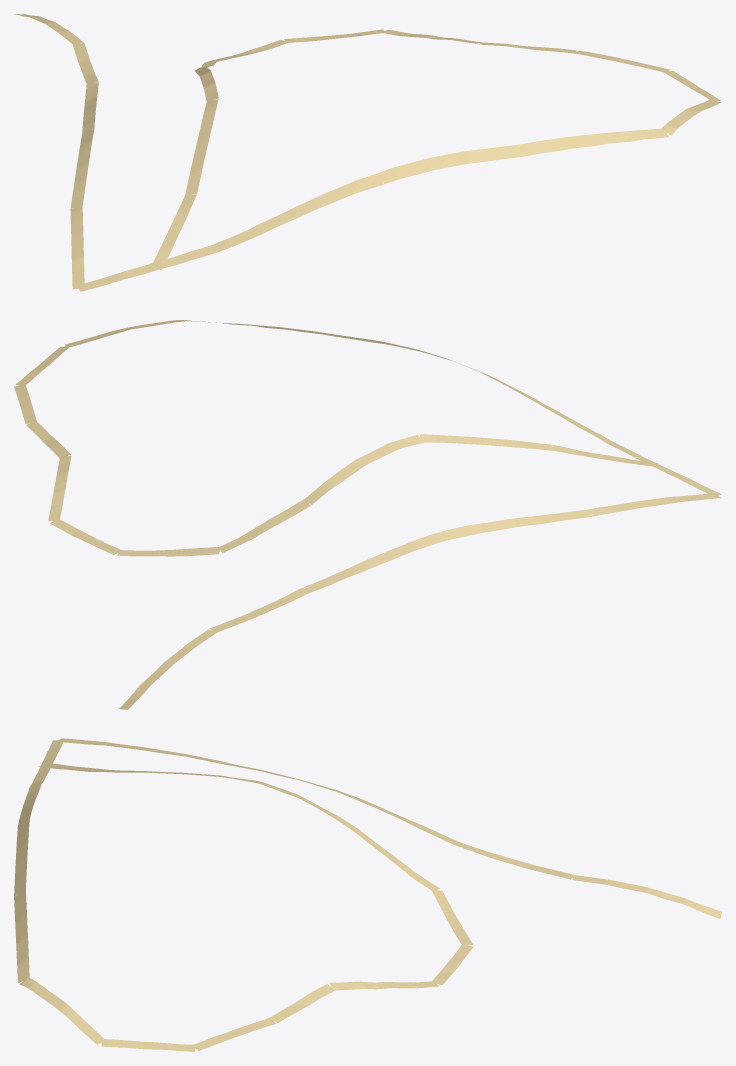
Rendered from Trail_16.glb.
3 views of the same model, one above another, from view 1: azimuth 30°, elevation 25°; view 2: azimuth 150°, elevation 25°; view 3: azimuth 270°, elevation 25° (orthographic). The views are drawn at different scales.
Visible parts, largest first — view 1: Trail_16; view 2: Trail_16; view 3: Trail_16.
Part boxes in pixels (x1,y1,x2,y2): Trail_16: (15, 14, 721, 291); Trail_16: (14, 320, 721, 709); Trail_16: (14, 738, 721, 1051).
Bounding box in the file's own units: 111 × 18.43 × 105.
